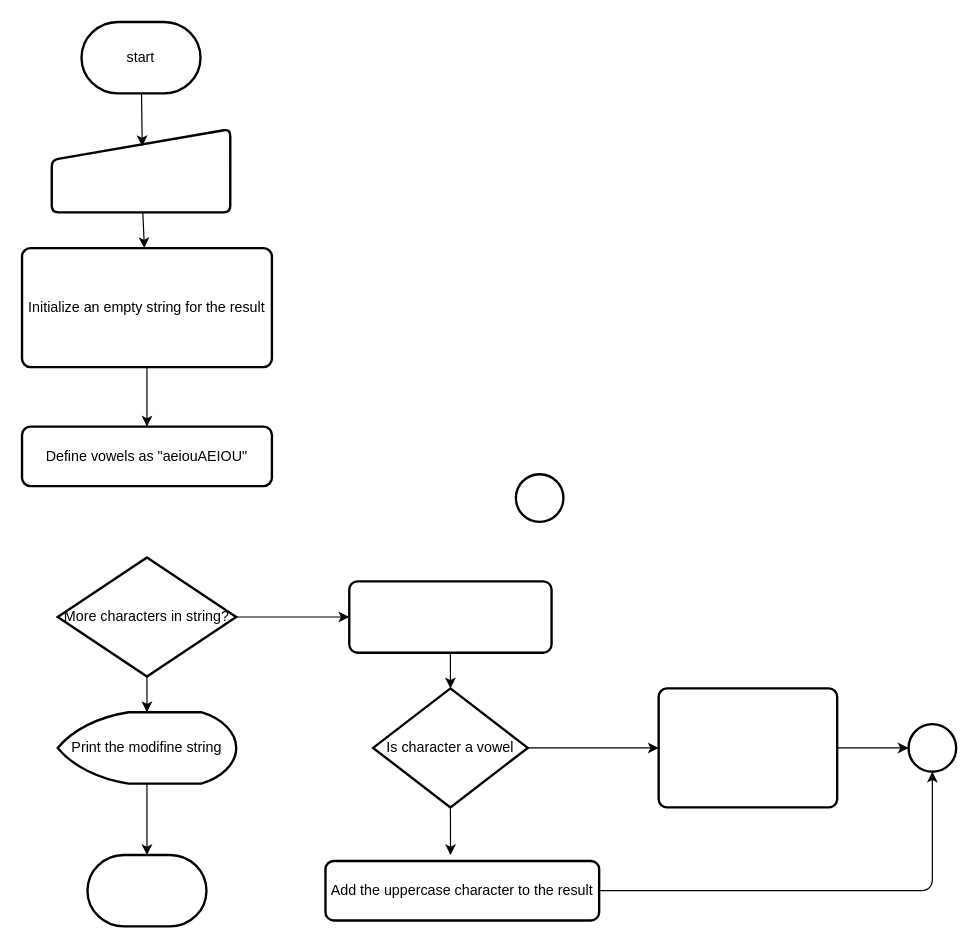
Image size: 977x947. Some labels were removed from this diagram. Here are the shapes that lost their labels. From the top down, the box of each, then its label:
(50, 127, 231, 213): Read input string from the user
(347, 580, 552, 653): Convert charater to uppercase
(657, 687, 838, 808): Addan asterisk to the result
(86, 853, 207, 927): End
